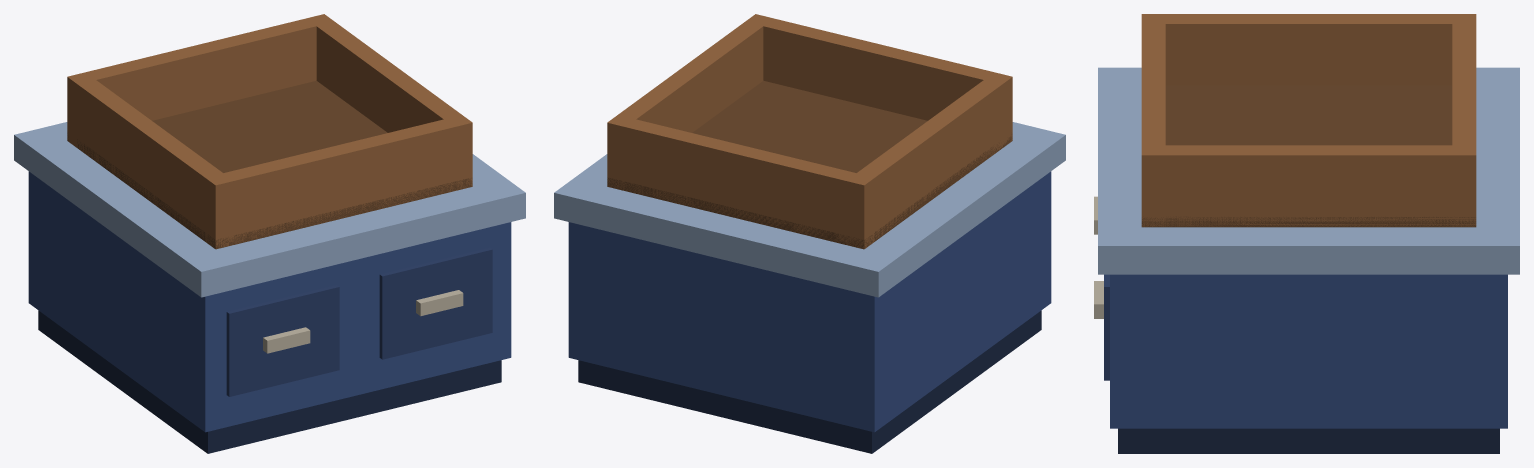
File: k_frost_bottles.glb
3 views of the same model, side by side, from view 1: azimuth 30°, elevation 25°; view 2: azimuth 150°, elevation 25°; view 3: azimuth 270°, elevation 25° (orthographic). The views are drawn at different scales.
Parts seen in each view (by area): view 1: piece; view 2: piece; view 3: piece.
Boxes of the visible parts, <box> form: piece: <box>14,14,525,453</box>; piece: <box>554,14,1065,453</box>; piece: <box>1094,14,1519,453</box>.
Size of the model in its own units: 1.06 by 0.8 by 1.07.
